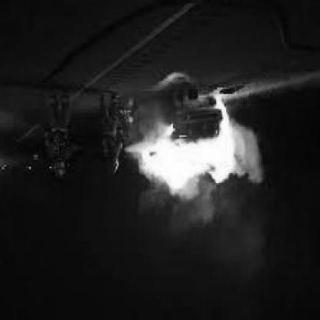Fire: (137, 118, 249, 188)
